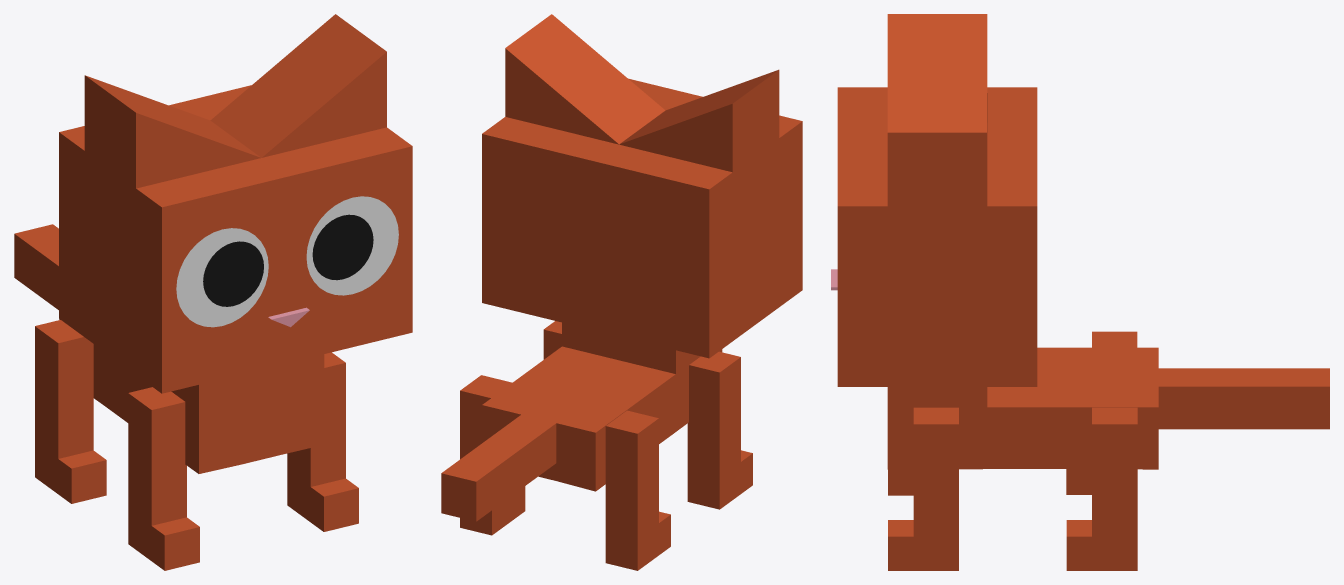
File: ginger_cat_f.fbx
3 views of the same model, side by side, from view 1: azimuth 30°, elevation 25°; view 2: azimuth 150°, elevation 25°; view 3: azimuth 270°, elevation 25° (orthographic). The views are drawn at different scales.
Parts seen in each view (by area): view 1: cat, Cube.002, Cube.003, yeux, Cube, Circle; view 2: cat, Cube.003, Cube.002, Cube.001, Cube; view 3: cat, Cube.001, Cube, Cube.003, Cube.002.
Boxes of the visible parts, bbox=[...] form: cat: bbox=[14, 14, 412, 473]; Cube.002: bbox=[128, 387, 199, 570]; Cube.003: bbox=[35, 320, 106, 503]; yeux: bbox=[176, 196, 398, 327]; Cube: bbox=[287, 352, 358, 531]; Circle: bbox=[203, 214, 373, 306]; cat: bbox=[441, 14, 802, 521]; Cube.003: bbox=[605, 410, 670, 570]; Cube.002: bbox=[687, 351, 752, 509]; Cube.001: bbox=[460, 375, 525, 535]; Cube: bbox=[543, 321, 561, 359]; cat: bbox=[831, 14, 1329, 469]; Cube.001: bbox=[1066, 407, 1137, 570]; Cube: bbox=[888, 407, 958, 570]; Cube.003: bbox=[1066, 331, 1137, 494]; Cube.002: bbox=[888, 469, 913, 495].
Bounding box in the file's own units: 282 × 499 × 500.
